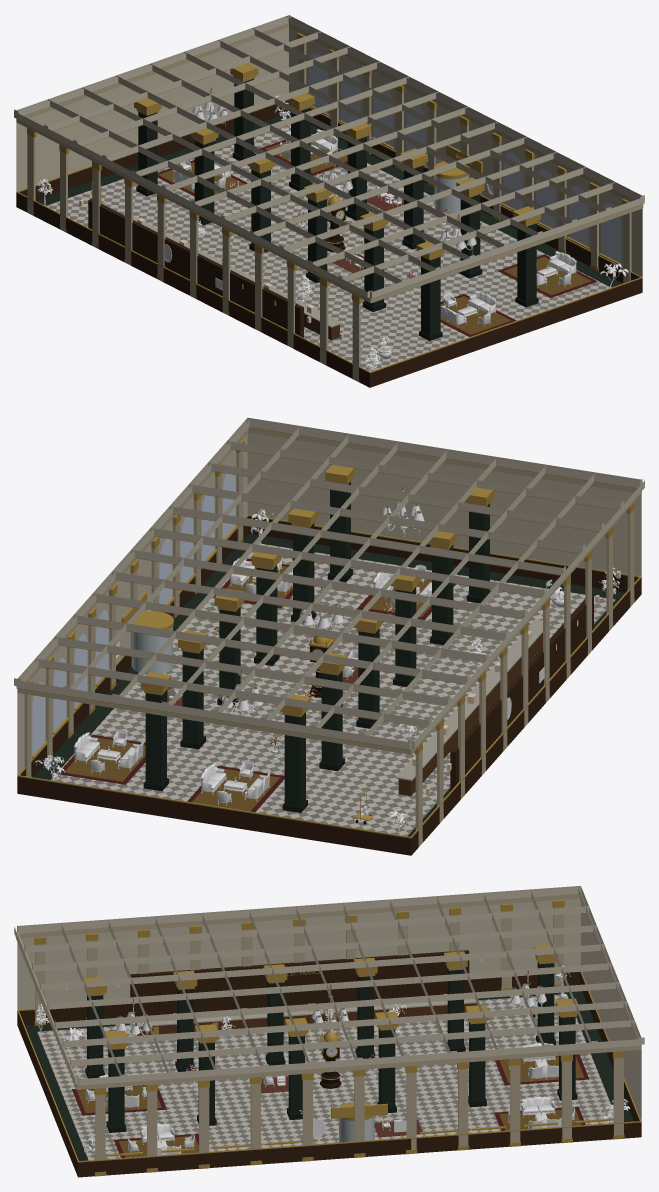
The model's file is stFrancis_int.glb.
The picture shows the model from 3 angles, top to bottom: view 1: azimuth 30°, elevation 25°; view 2: azimuth 150°, elevation 25°; view 3: azimuth 270°, elevation 25°; orthographic projection. The views are drawn at different scales.
Visible parts, largest first — view 1: I_x_plaster, I_x_marble_white, I_x_veneer, I_x_marble_black, I_x_gold, I_sky, I_x_carpet_red, I_p_Sofa_01__0, I_p_Chandelier_01__0, I_p_ArmChair_01__0, I_glassI; view 2: I_x_plaster, I_x_marble_white, I_x_veneer, I_x_marble_black, I_x_gold, I_x_carpet_red, I_sky, I_p_Sofa_01__0, I_p_Chandelier_01__0, I_p_ArmChair_01__0, I_glassI; view 3: I_x_plaster, I_x_marble_white, I_x_veneer, I_x_marble_black, I_x_gold, I_x_carpet_red, I_p_Sofa_01__0, I_p_Chandelier_01__0, I_glassI, I_p_ArmChair_01__0.
Boxes of the visible parts, x1,y1,x2,y2 form: I_x_plaster: (14,15,644,381); I_x_marble_white: (36,113,622,371); I_x_veneer: (16,100,642,387); I_x_marble_black: (136,78,538,340); I_x_gold: (16,23,644,381); I_sky: (308,53,620,263); I_x_carpet_red: (157,135,597,336); I_p_Sofa_01__0: (173,129,576,326); I_p_Chandelier_01__0: (192,91,476,255); I_p_ArmChair_01__0: (179,131,571,326); I_glassI: (434,174,469,214); I_x_plaster: (14,417,644,846); I_x_marble_white: (33,533,625,836); I_x_veneer: (17,516,641,855); I_x_marble_black: (143,481,490,812); I_x_gold: (16,427,641,842); I_x_carpet_red: (58,558,455,812); I_sky: (32,466,235,755); I_p_Sofa_01__0: (74,558,431,801); I_p_Chandelier_01__0: (219,490,424,716); I_p_ArmChair_01__0: (90,556,426,805); I_glassI: (132,627,172,674); I_x_plaster: (14,886,644,1160); I_x_marble_white: (25,991,633,1160); I_x_veneer: (17,950,641,1177); I_x_marble_black: (85,962,577,1132); I_x_gold: (14,899,644,1176); I_x_carpet_red: (72,1054,589,1157); I_p_Sofa_01__0: (99,1042,561,1155); I_p_Chandelier_01__0: (115,974,546,1043); I_glassI: (339,1116,374,1142); I_p_ArmChair_01__0: (86,1059,574,1152).
Size of the model in its own units: 32.24 by 7.7 by 44.17.
